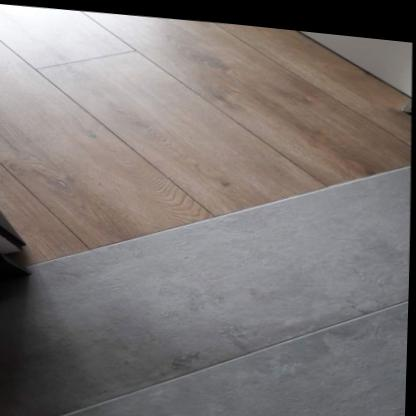Wooden floor: (0, 4, 411, 271)
